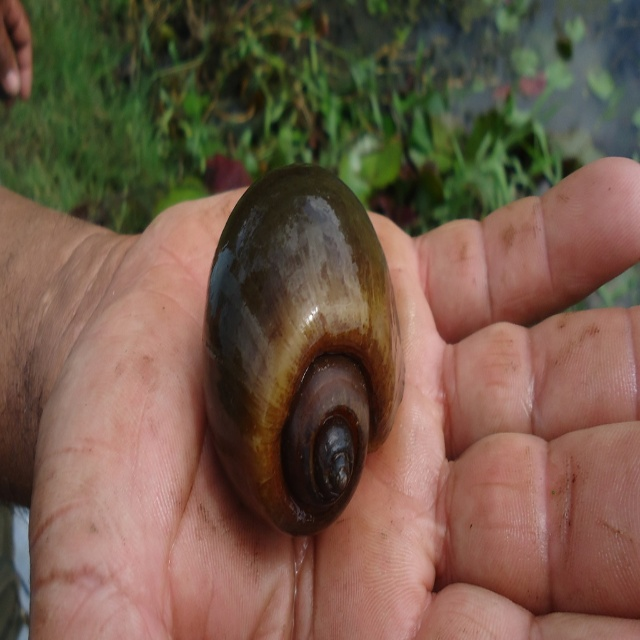Snail: (194, 168, 406, 550)
